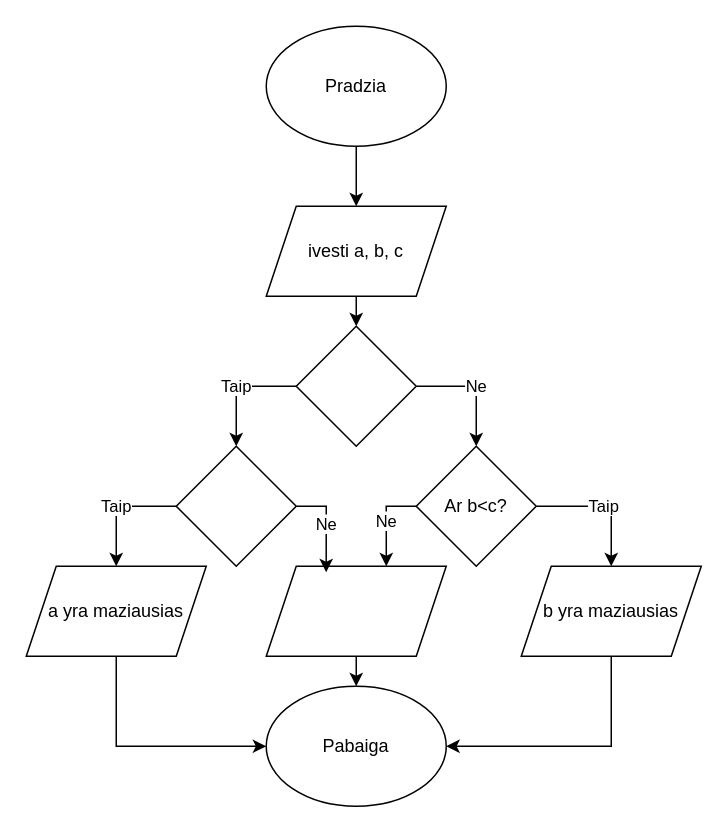
Some shapes in this 728 by 833 pixel diagram are drawn without their labels. The shapes that lost their labels are listed below. From the top down, each one's box as (x1, y1, x2, y2) in pixels, then its label:
(295, 325, 416, 446): Ar a<b?
(175, 445, 296, 566): Ar a<c?
(265, 565, 446, 656): c yra maziausias
